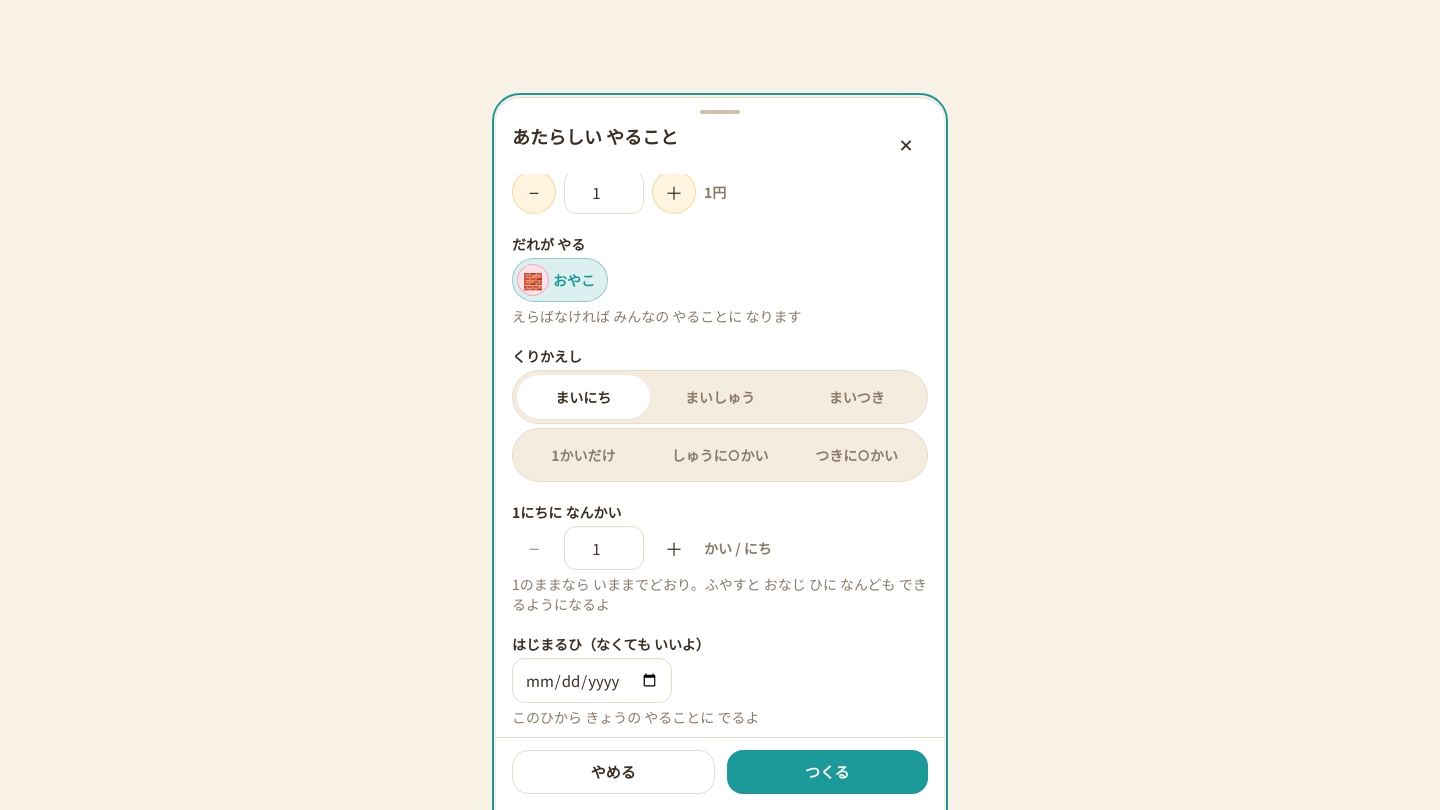
TaskEditor deadline field › hides again once a recurring cadence is picked back
This screenshot has width=1440, height=810.
(page scrolled)
Click the radio button labelled "1かいだけ" at (583, 455), box [551, 445, 616, 465]
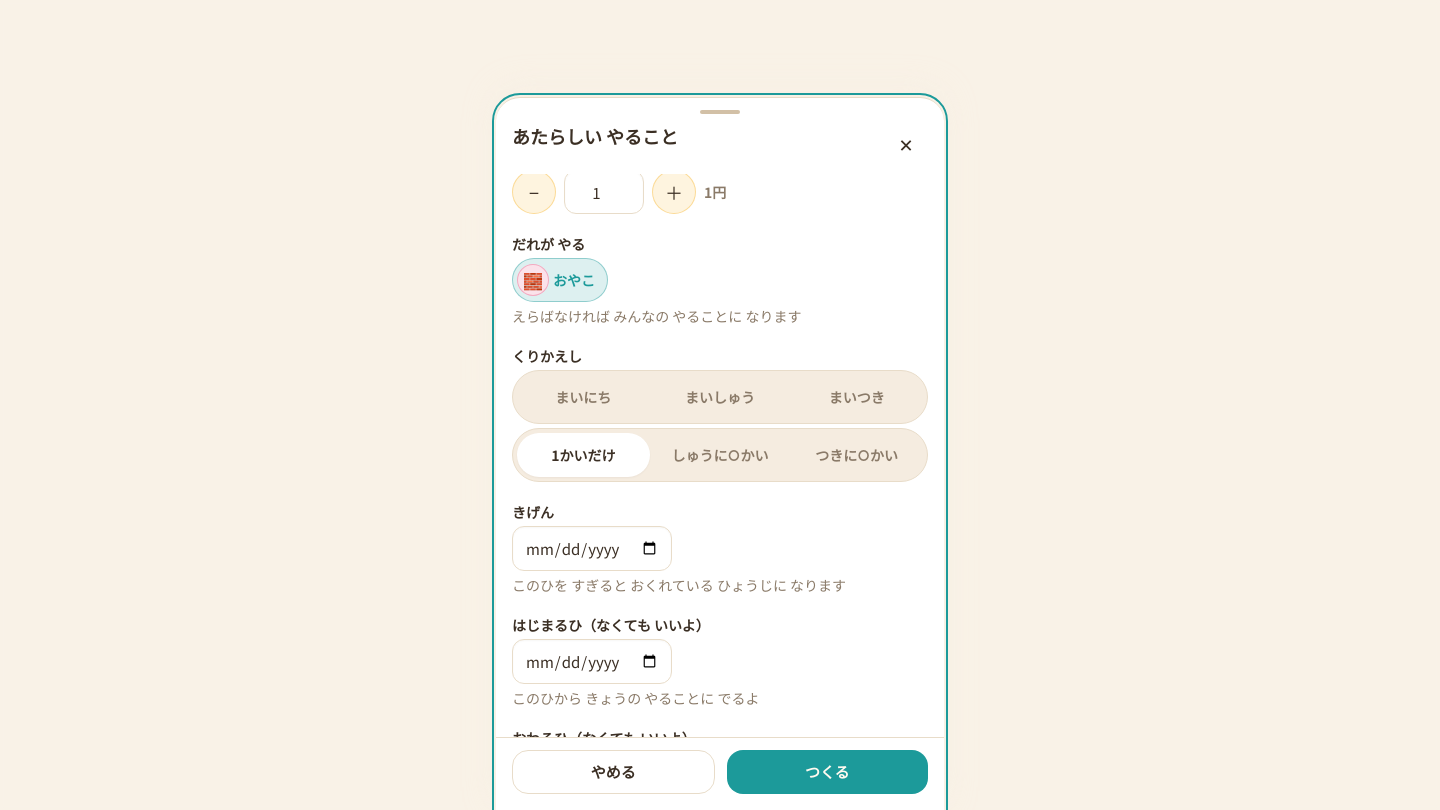
Click the radio button labelled "まいにち" at (583, 397), box [555, 387, 611, 407]
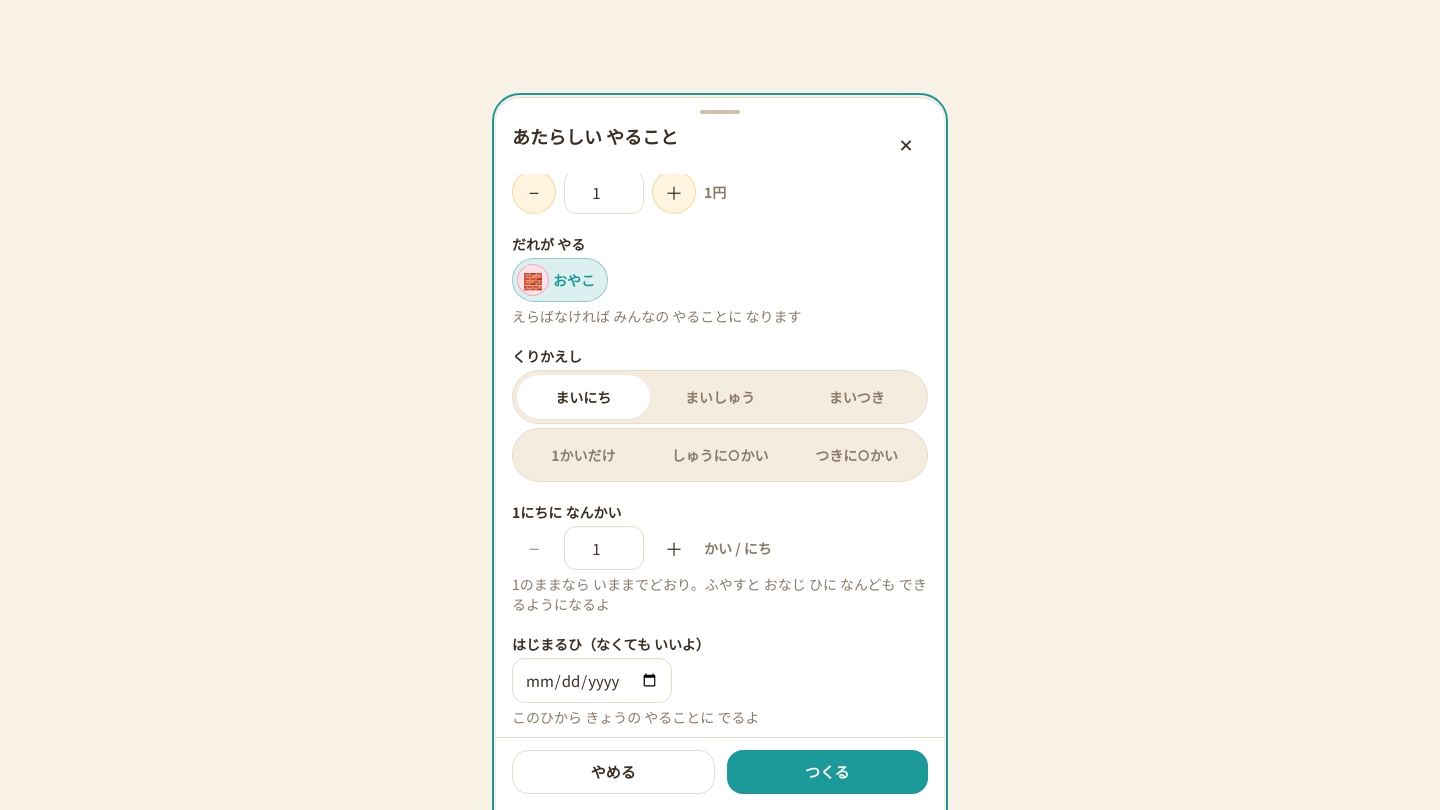
Expected: the text labelled "きげん" is gone
